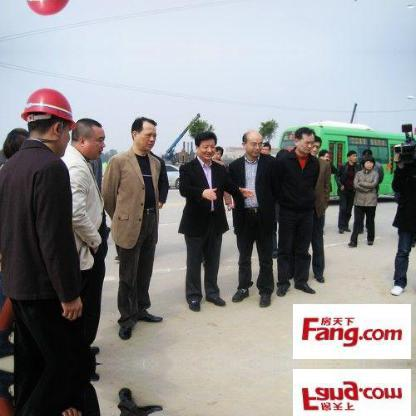head: (68, 116, 107, 161), (127, 111, 159, 153), (0, 126, 31, 165), (192, 129, 216, 163), (239, 125, 261, 159), (292, 125, 314, 156), (256, 139, 273, 161), (306, 133, 321, 157), (210, 141, 224, 164), (316, 146, 330, 166), (344, 148, 357, 162), (361, 157, 375, 169)
helmet: (24, 84, 76, 154), (24, 0, 77, 19)
